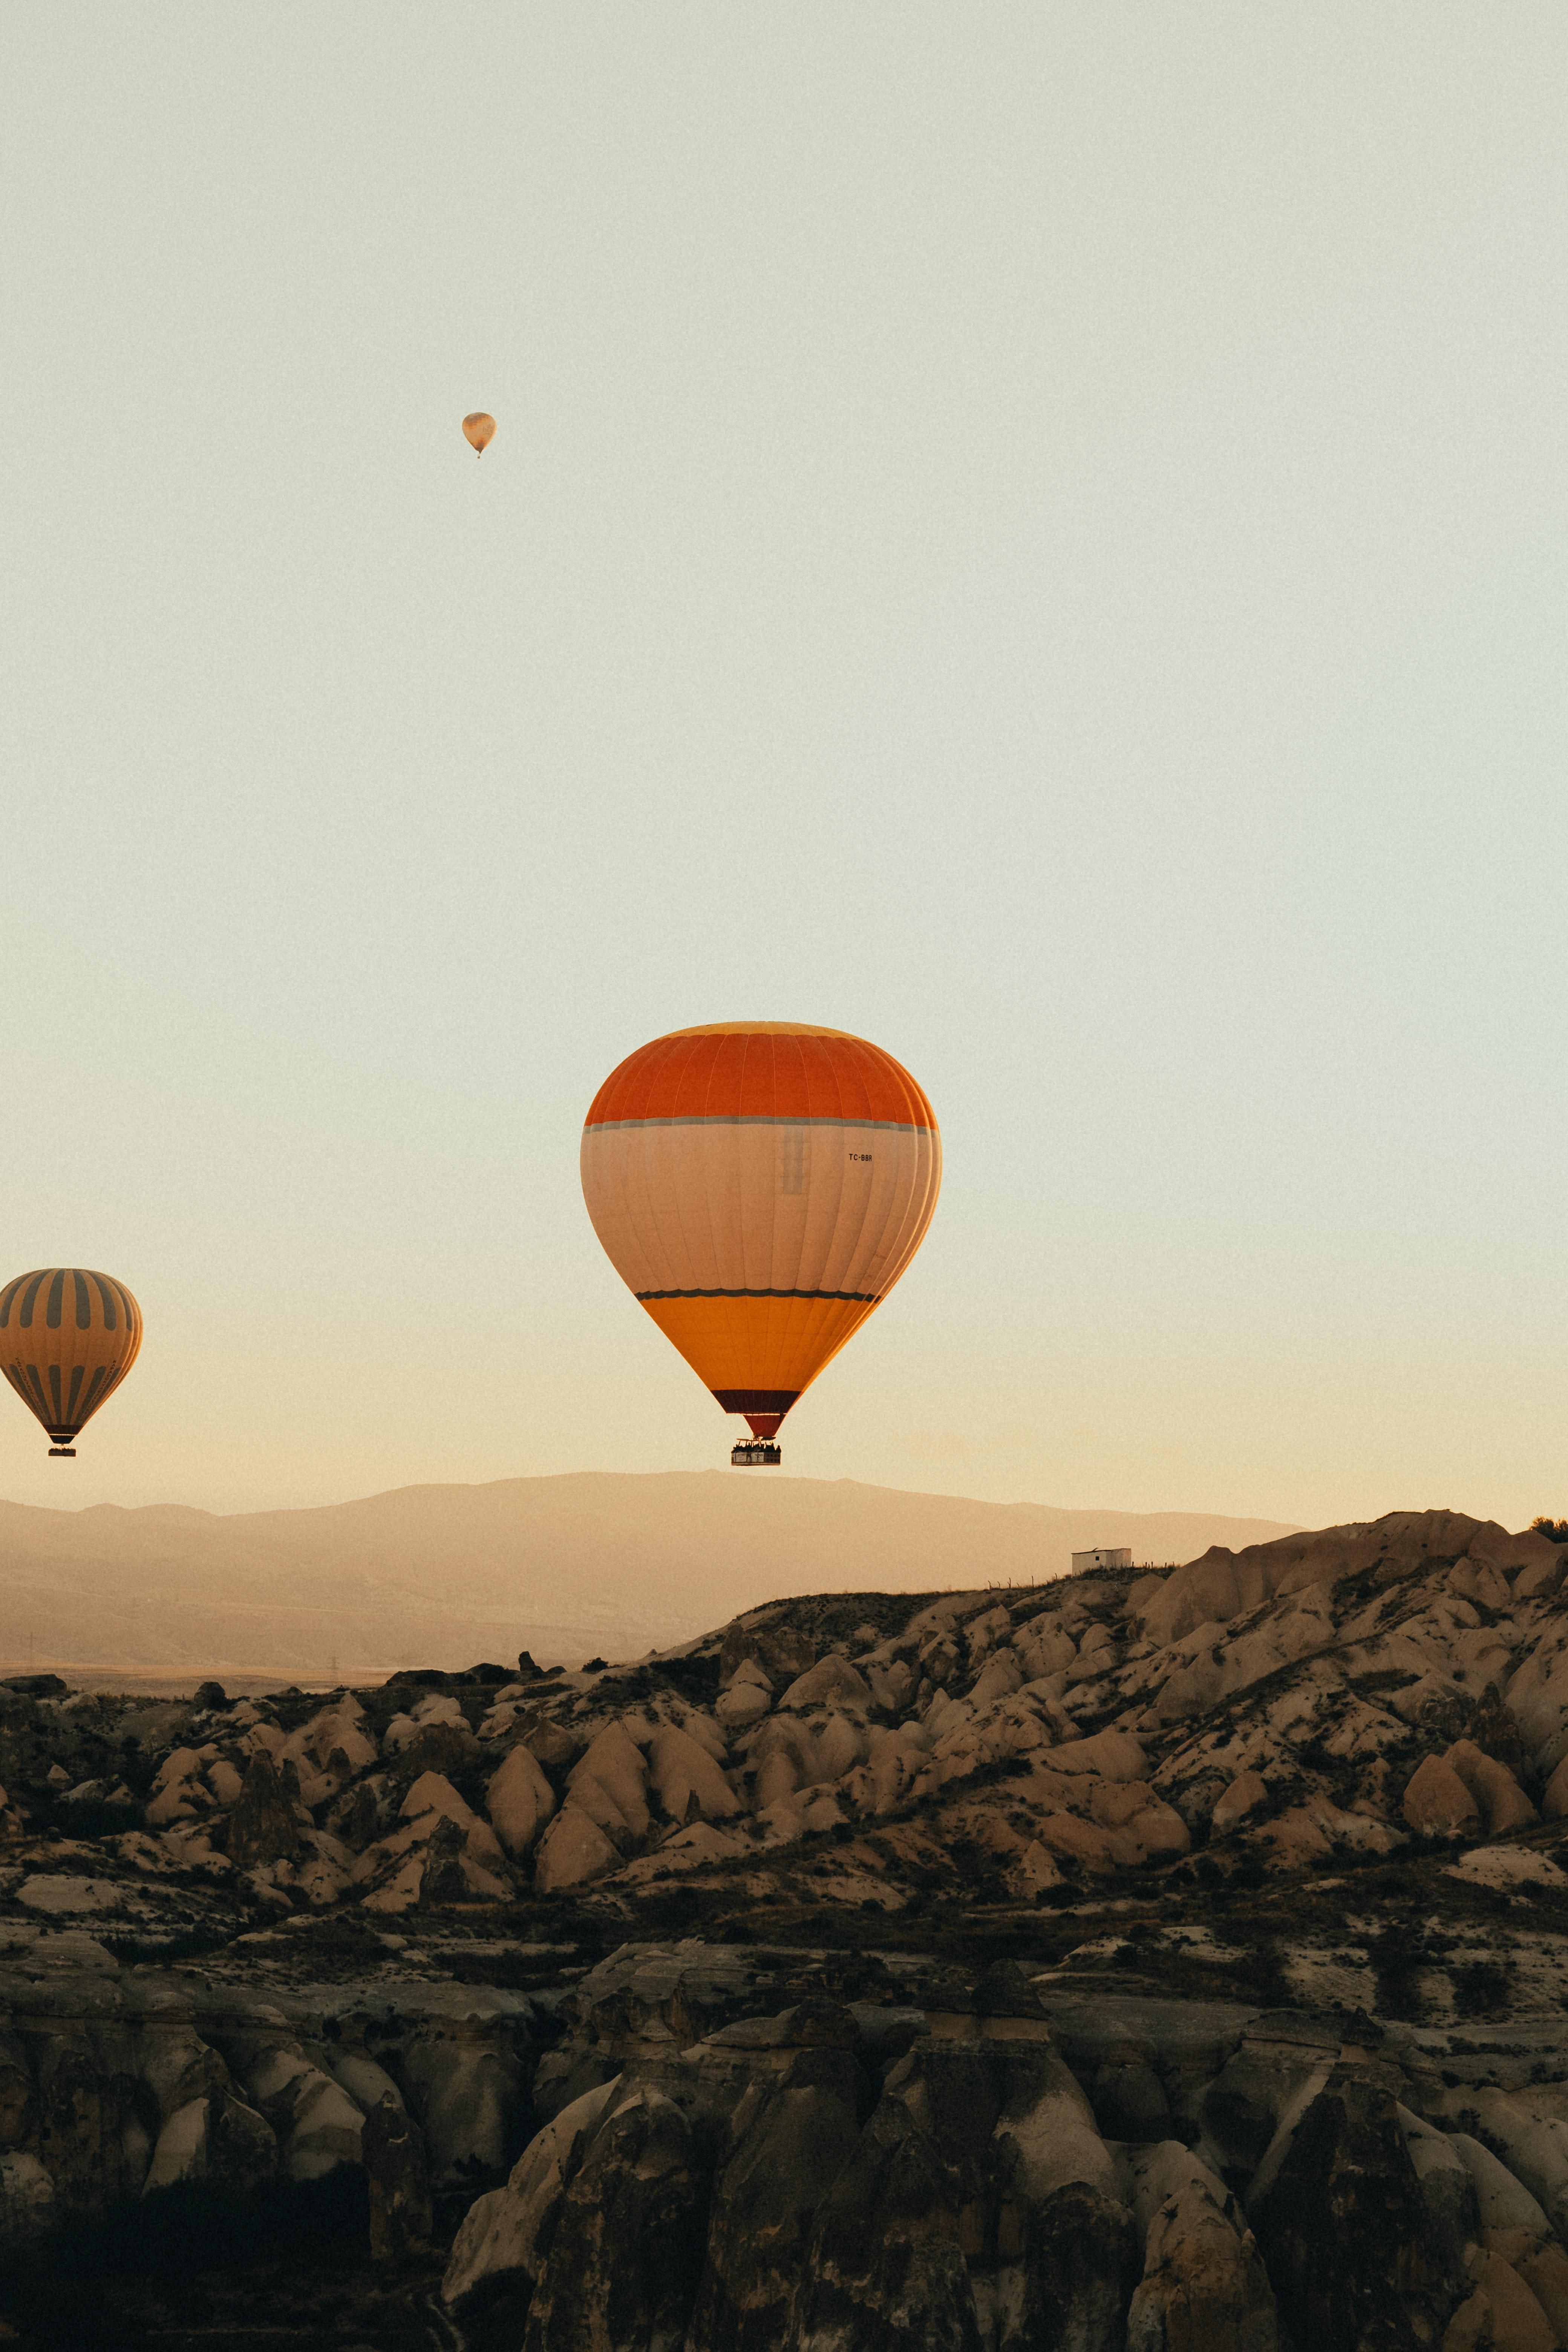hot air ballon: (579, 1018, 945, 1467), (0, 1269, 145, 1458), (462, 411, 497, 459)
